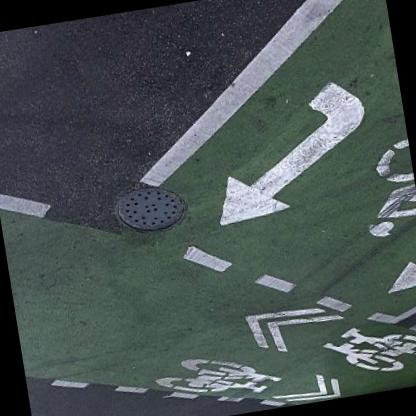manholes: (94, 141, 215, 268)
